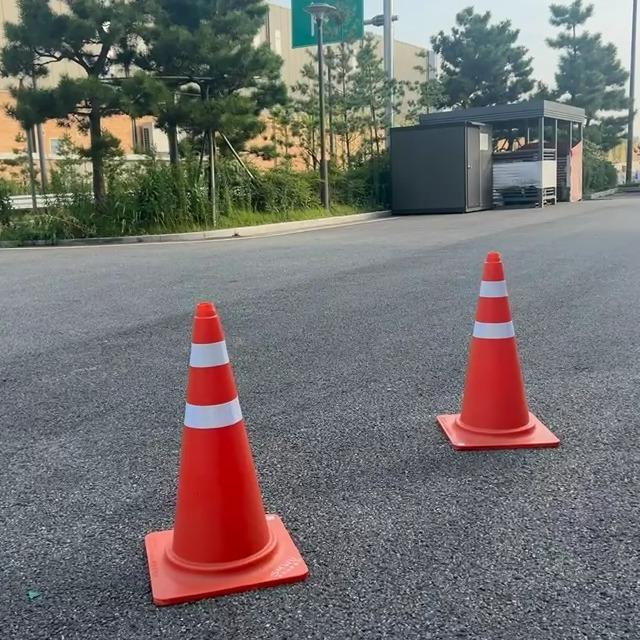fallen_object: (109, 303, 339, 581), (420, 217, 582, 459)
